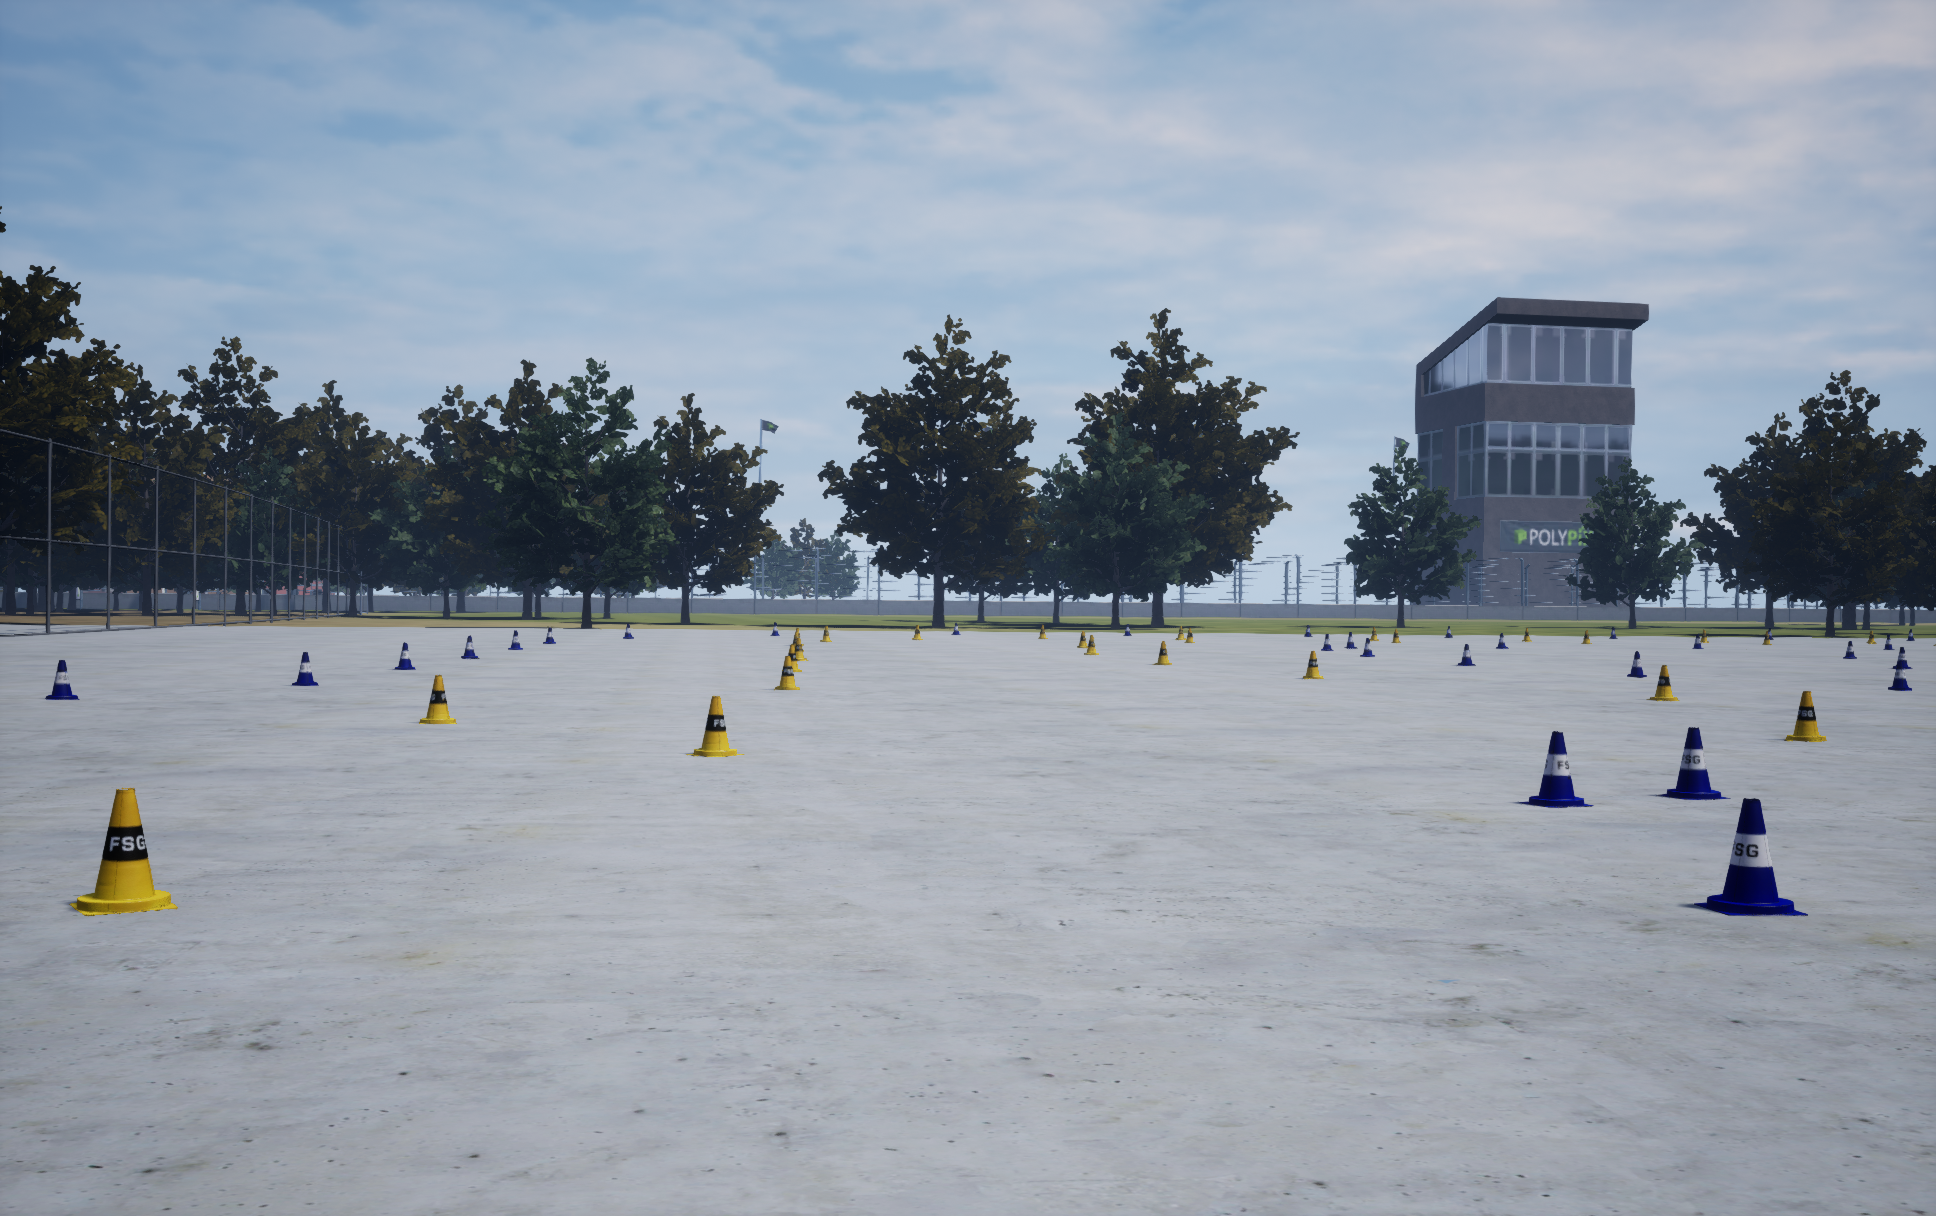blue: (69, 787, 177, 915), (686, 696, 744, 756), (1783, 691, 1825, 741), (419, 675, 457, 723), (1646, 665, 1680, 700), (775, 656, 798, 689), (1303, 651, 1322, 678), (782, 644, 801, 671), (1152, 642, 1171, 664), (796, 637, 808, 660), (1084, 635, 1098, 654)
yellow: (1694, 799, 1807, 915), (1519, 731, 1593, 807), (1657, 727, 1730, 799), (45, 660, 78, 699), (291, 651, 318, 685), (1888, 661, 1911, 691), (394, 642, 415, 670), (1626, 651, 1646, 677), (461, 635, 479, 658), (1893, 647, 1912, 668), (1457, 644, 1475, 665), (509, 630, 523, 649), (1360, 637, 1374, 656)
